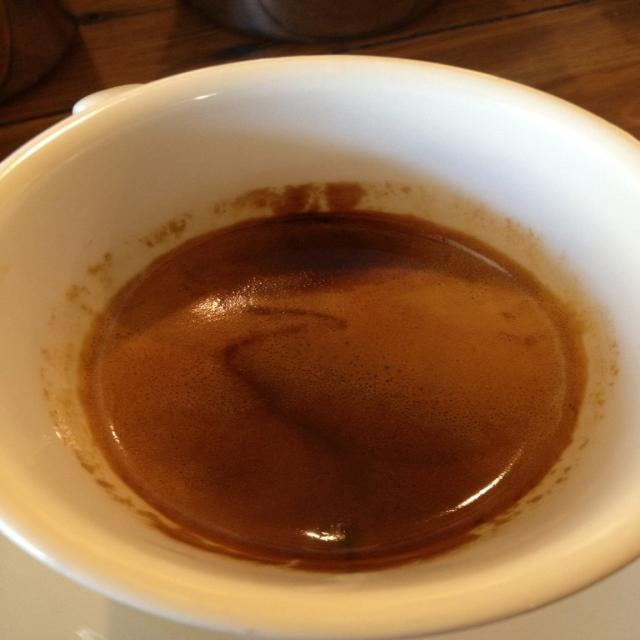Coffee: (65, 187, 570, 567)
Tea: (46, 178, 622, 571)
